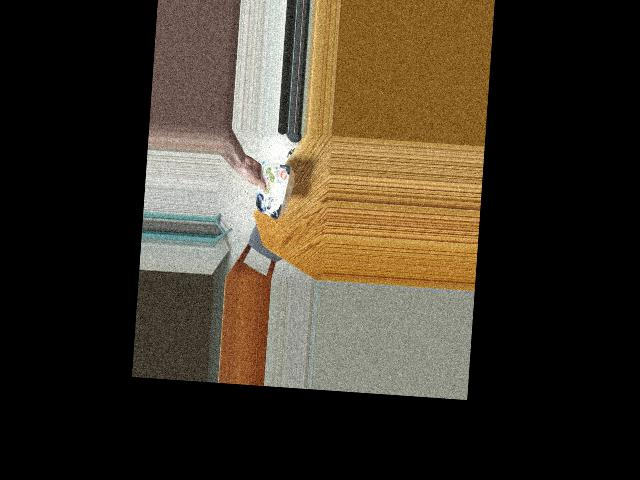cheese: (249, 163, 292, 216)
